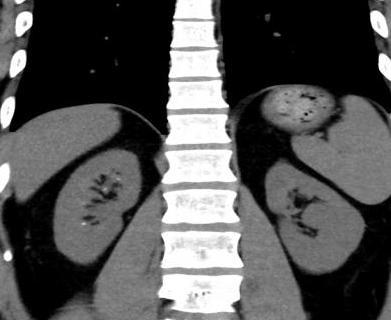Tas_Var: (114, 176, 121, 182), (80, 220, 86, 226), (102, 186, 108, 192)
